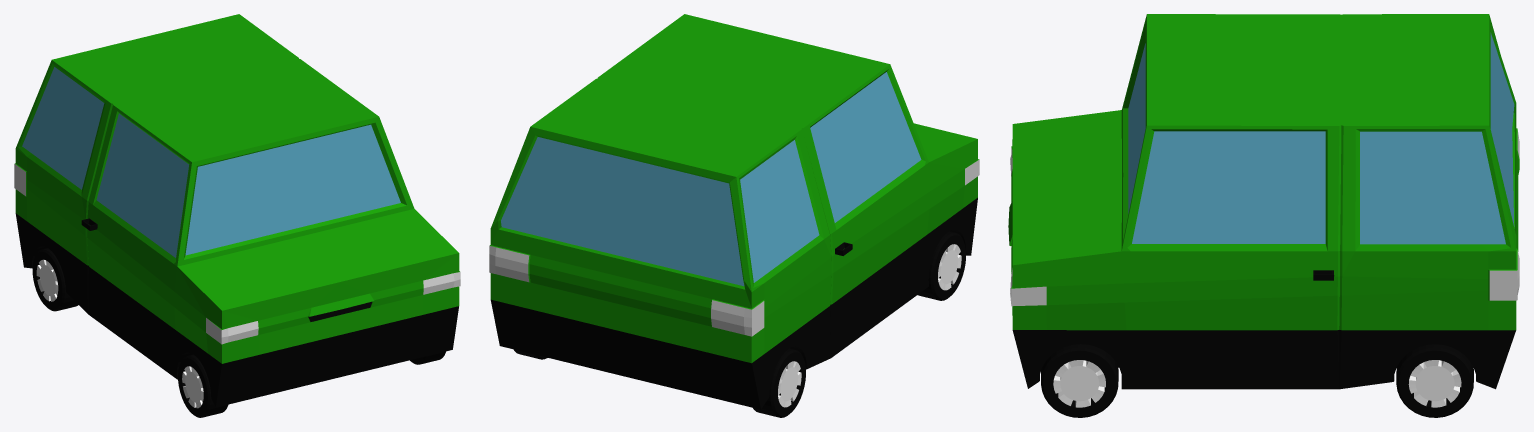
The model's file is car.fbx.
3 views of the same model, side by side, from view 1: azimuth 30°, elevation 25°; view 2: azimuth 150°, elevation 25°; view 3: azimuth 270°, elevation 25° (orthographic). The views are drawn at different scales.
Visible parts, largest first — view 1: Car_Driveable, Car_Driveable_wheels.001, Car_Driveable_wheels.004; view 2: Car_Driveable, Car_Driveable_wheels.004, Car_Driveable_wheels.001; view 3: Car_Driveable, Car_Driveable_wheels.003, Car_Driveable_wheels.002.
Boxes of the visible parts, <box> form: Car_Driveable: <box>14,14,460,407</box>; Car_Driveable_wheels.001: <box>178,354,228,417</box>; Car_Driveable_wheels.004: <box>32,248,78,311</box>; Car_Driveable: <box>489,14,979,409</box>; Car_Driveable_wheels.004: <box>753,348,805,417</box>; Car_Driveable_wheels.001: <box>918,231,965,300</box>; Car_Driveable: <box>1008,14,1519,389</box>; Car_Driveable_wheels.003: <box>1041,344,1118,417</box>; Car_Driveable_wheels.002: <box>1396,344,1473,417</box>.
Size of the model in its own units: 2.57 by 2.19 by 3.66.
